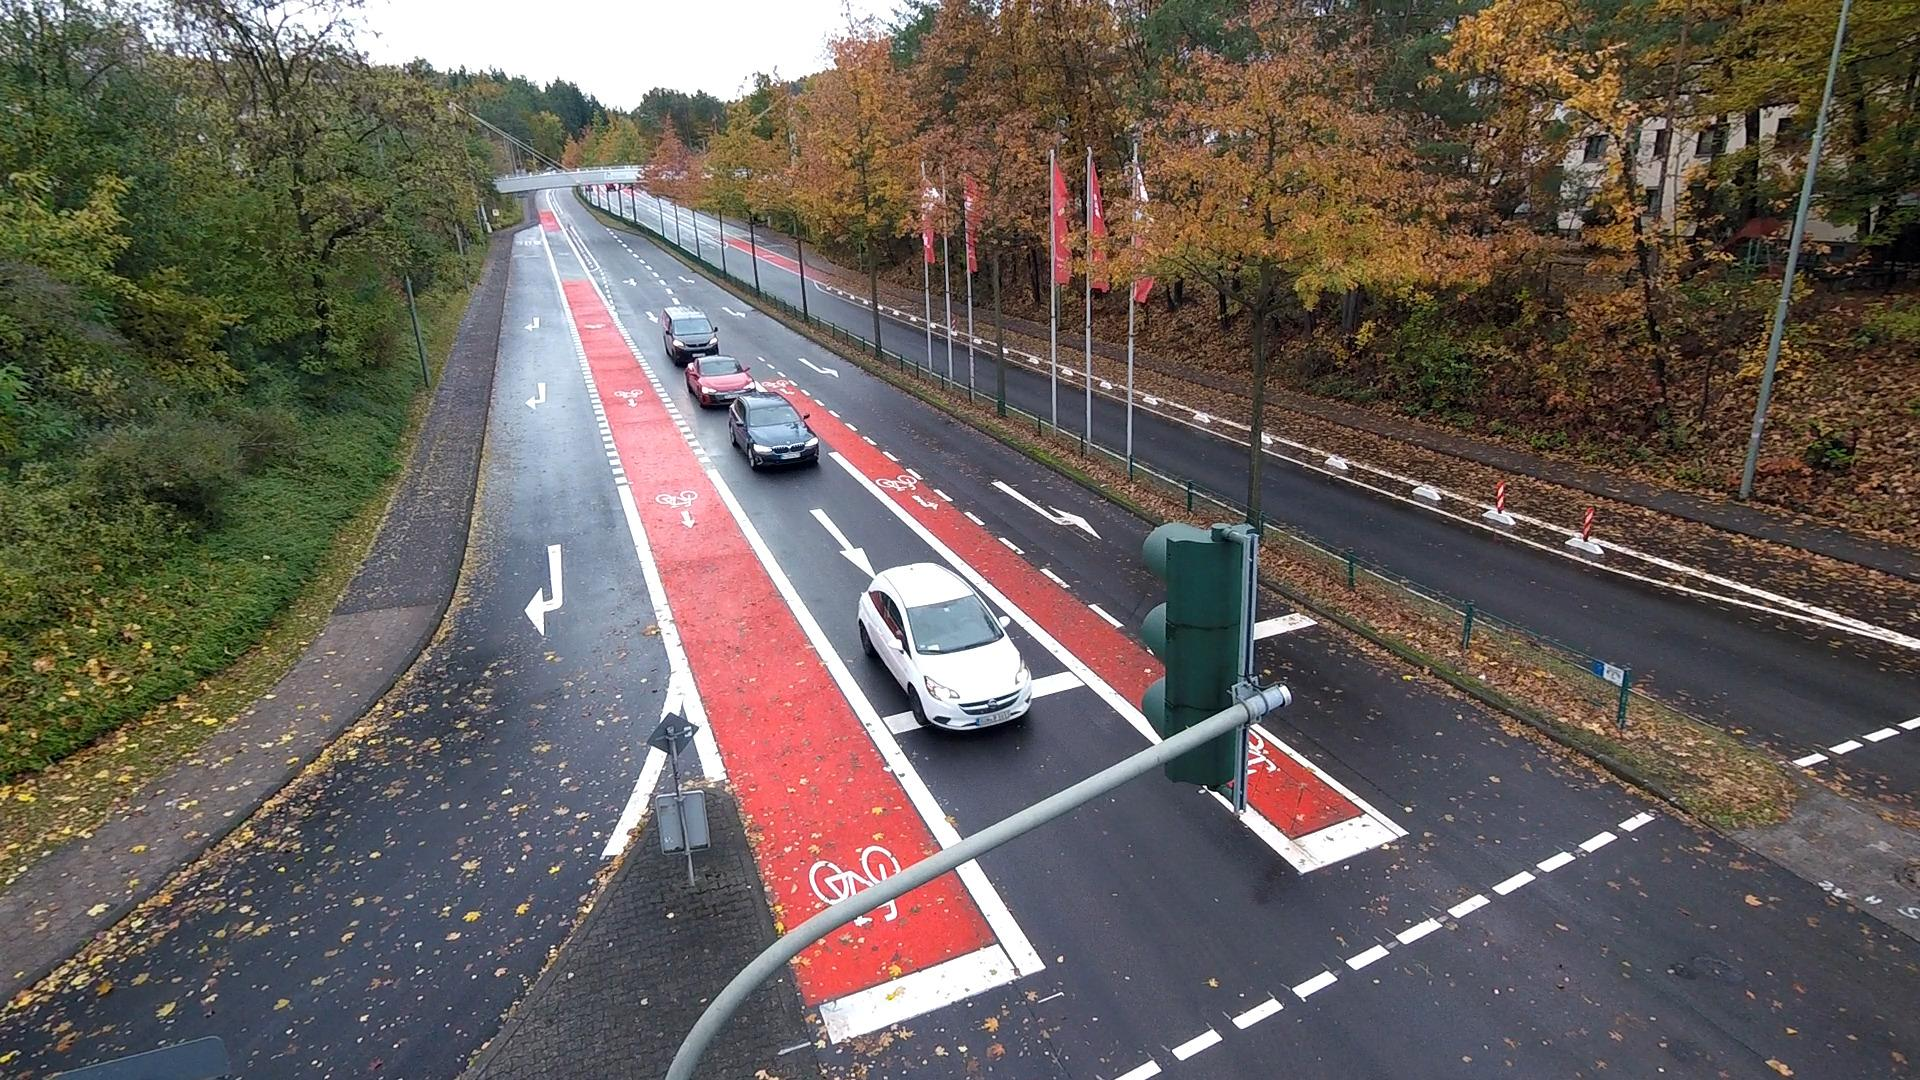bicycle-lane: (534, 189, 963, 938), (1264, 402, 1920, 638), (789, 858, 1048, 1052), (1134, 364, 1255, 427), (802, 264, 872, 301), (877, 289, 926, 321), (1005, 327, 1051, 361), (756, 244, 801, 275), (1090, 352, 1127, 385), (1056, 342, 1087, 373), (695, 217, 722, 243), (723, 232, 751, 254), (971, 322, 997, 343), (634, 190, 658, 209), (952, 312, 965, 333), (678, 212, 694, 229), (662, 201, 676, 219)
car: (854, 560, 1036, 736), (728, 390, 819, 471), (682, 353, 756, 406), (663, 302, 720, 366), (606, 183, 617, 192), (586, 185, 594, 192)
car-lane: (3, 223, 675, 1080), (813, 580, 1920, 1080), (554, 184, 1167, 840), (1261, 447, 1920, 831), (1131, 400, 1249, 517), (804, 278, 876, 345), (1006, 356, 1051, 425), (1090, 384, 1127, 462), (757, 256, 806, 312), (880, 312, 928, 369), (1058, 377, 1087, 439), (724, 245, 758, 291), (753, 231, 799, 261), (698, 230, 724, 273), (976, 349, 997, 400), (635, 196, 661, 236), (677, 219, 697, 256), (933, 331, 949, 377), (721, 221, 753, 242), (954, 340, 968, 387), (694, 211, 721, 231), (664, 212, 678, 244), (622, 196, 635, 221), (609, 191, 622, 215), (599, 185, 609, 212), (677, 203, 693, 219)
